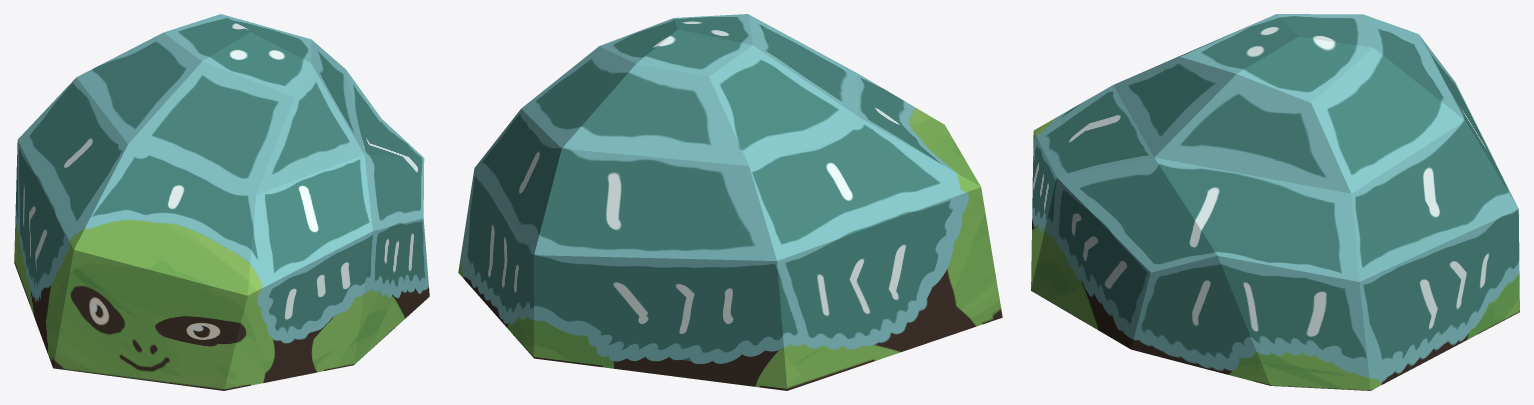
File: 3D_turtle_rock.fbx
3 views of the same model, side by side, from view 1: azimuth 30°, elevation 25°; view 2: azimuth 150°, elevation 25°; view 3: azimuth 270°, elevation 25° (orthographic). The views are drawn at different scales.
Visible parts, largest first — view 1: Turtle Rock; view 2: Turtle Rock; view 3: Turtle Rock.
Boxes of the visible parts, bbox=[...] form: Turtle Rock: bbox=[14, 14, 429, 390]; Turtle Rock: bbox=[458, 14, 1002, 390]; Turtle Rock: bbox=[1031, 14, 1519, 390].
Size of the model in its own units: 0.7006 by 0.3864 by 0.6489.
